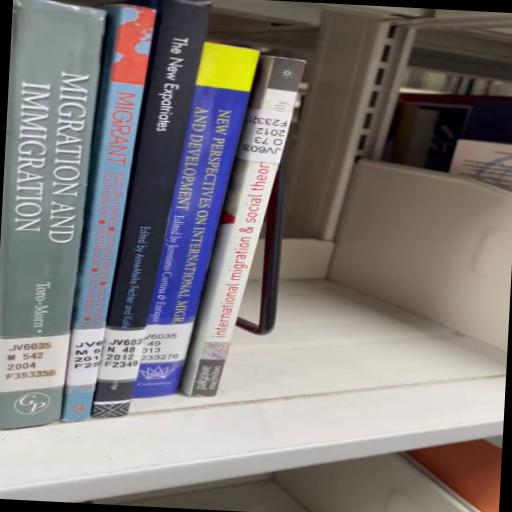reverse: (180, 56, 305, 397)
